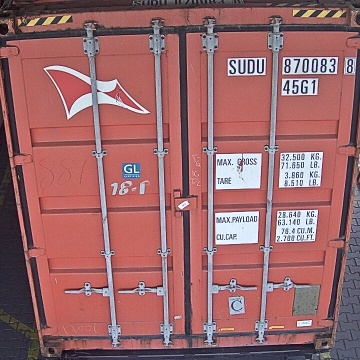serial_id: (228, 57, 355, 74)
